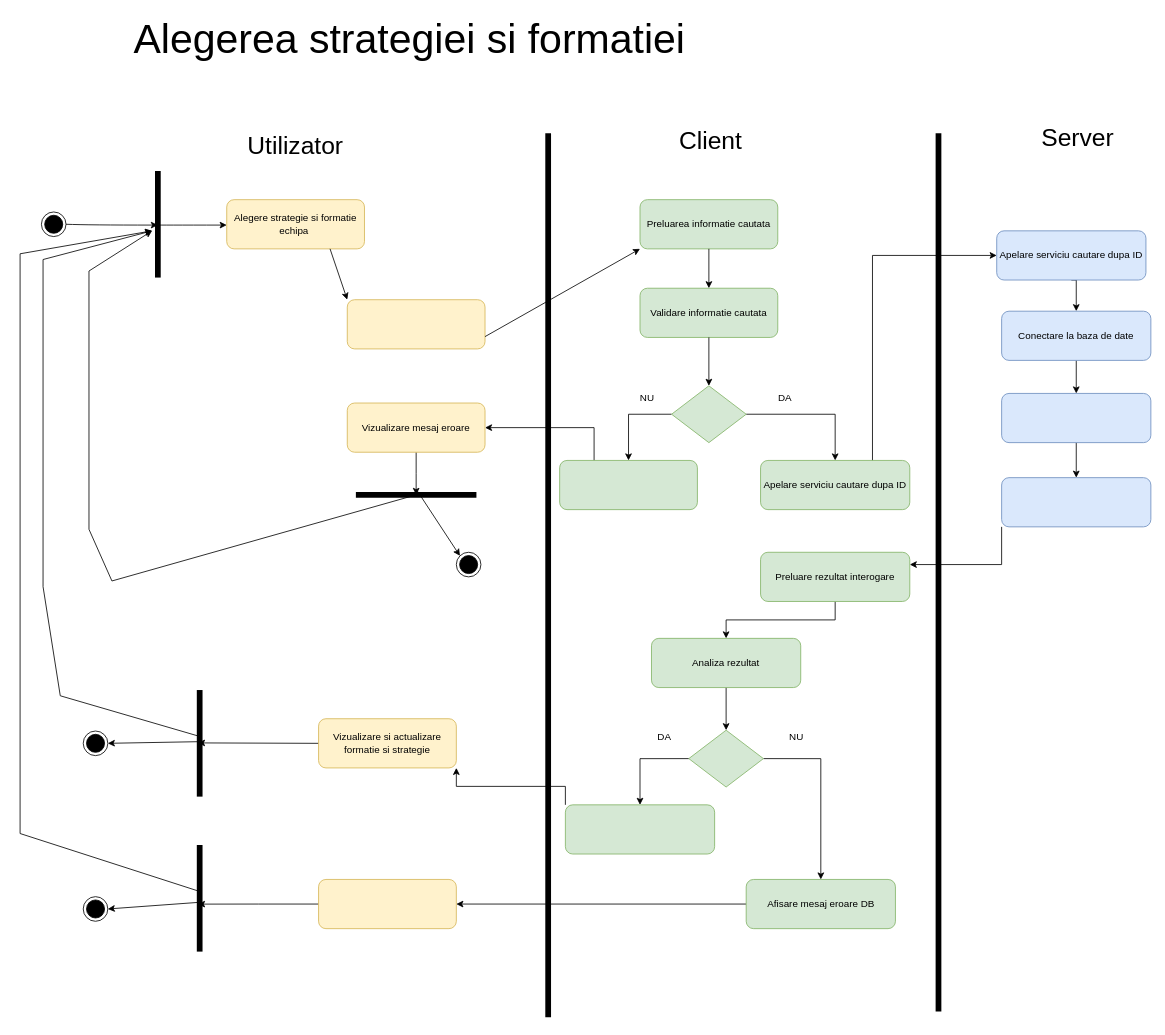
The diagram is 1165 pixels wide and 1035 high, and some of its shapes have lost their labels. Each missing label, with the centre of its shape:
"Afisare mesaj eroare" goes at (x=628, y=485).
"Deconectarea de la baza de date" goes at (x=1076, y=502).
"Executarea interogarii si actualizarea formatiei si strategiei" goes at (x=1076, y=418).
"Generare cautare echipa meci curent" goes at (x=415, y=324).
"Salvare formatie si strategie" goes at (x=640, y=829).
"Vizualizare eroare DB" goes at (x=387, y=904).
